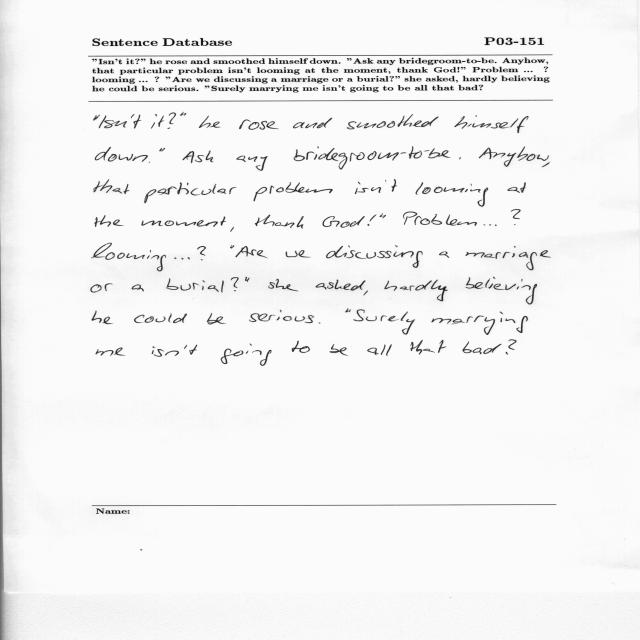word: (294, 146, 450, 170), (326, 245, 423, 268), (431, 312, 528, 335), (91, 243, 166, 271), (465, 246, 551, 270), (465, 277, 537, 305), (144, 183, 237, 204), (416, 182, 488, 207), (353, 309, 415, 335), (253, 182, 333, 201), (479, 146, 549, 167), (347, 114, 439, 129), (454, 115, 529, 133), (221, 343, 272, 366), (403, 212, 477, 226), (400, 280, 448, 301), (141, 216, 226, 227), (166, 278, 224, 293), (249, 310, 314, 323), (316, 280, 368, 296), (95, 147, 148, 162), (255, 215, 304, 229), (355, 179, 397, 194), (99, 114, 142, 128), (94, 179, 130, 194), (152, 345, 197, 357), (411, 340, 447, 355), (134, 313, 187, 323), (322, 216, 365, 228), (463, 342, 502, 355), (236, 156, 268, 171), (239, 119, 279, 130), (293, 118, 332, 128), (236, 246, 268, 258), (183, 151, 214, 163), (268, 279, 298, 291), (95, 215, 124, 227), (168, 112, 187, 129), (367, 344, 392, 356), (92, 311, 113, 324), (96, 347, 125, 356), (329, 344, 348, 356), (292, 341, 310, 353), (507, 182, 526, 193), (207, 313, 226, 324), (286, 250, 311, 258), (151, 114, 164, 129), (91, 284, 112, 293), (506, 340, 517, 355), (511, 210, 521, 225), (199, 116, 211, 128), (384, 281, 397, 291), (197, 246, 206, 260), (368, 215, 377, 226), (231, 277, 238, 291), (132, 285, 144, 292), (210, 121, 221, 128), (439, 251, 450, 258), (174, 257, 190, 260), (542, 162, 550, 167), (94, 115, 100, 121), (379, 213, 386, 218), (484, 224, 497, 226), (245, 277, 250, 282), (160, 148, 166, 152), (345, 309, 351, 313), (230, 227, 234, 232), (230, 245, 234, 249), (459, 158, 461, 160), (319, 323, 321, 324), (149, 162, 150, 163)
